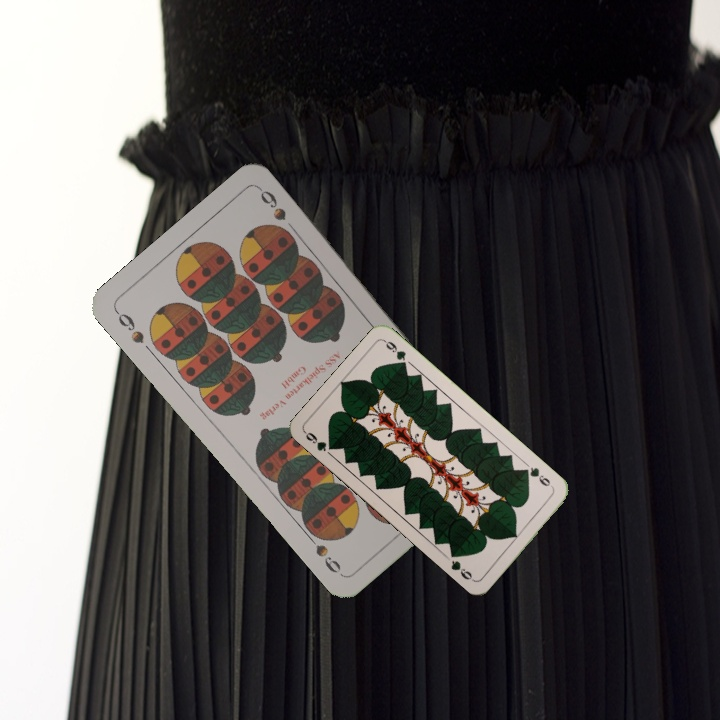G9: (519, 463, 556, 491), (301, 428, 339, 454)
S9: (111, 306, 147, 346)
